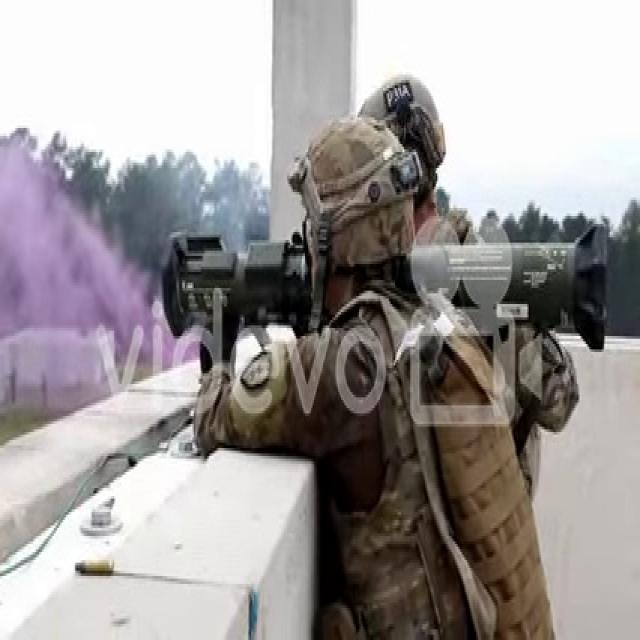bazooka: (159, 214, 616, 358)
